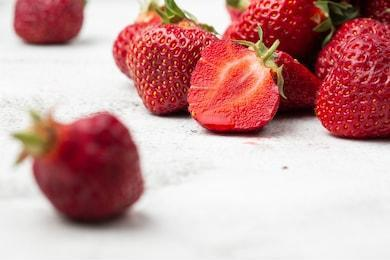Fresa: (126, 19, 227, 120), (312, 32, 390, 145)
